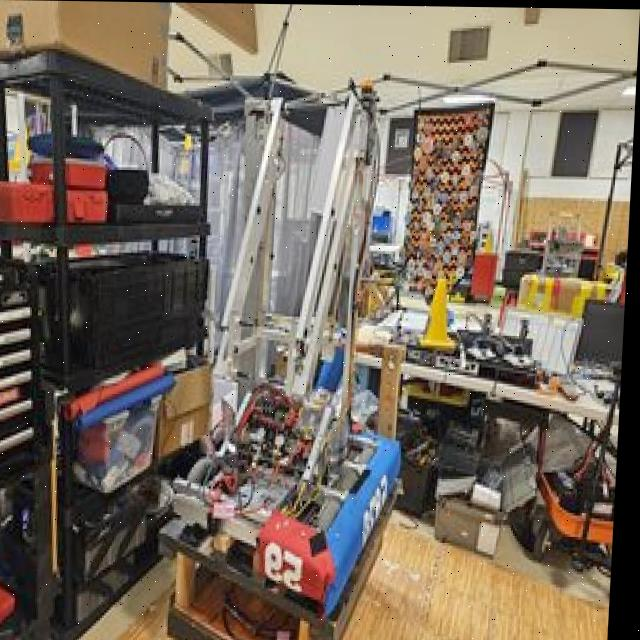robot: (145, 74, 426, 599)
